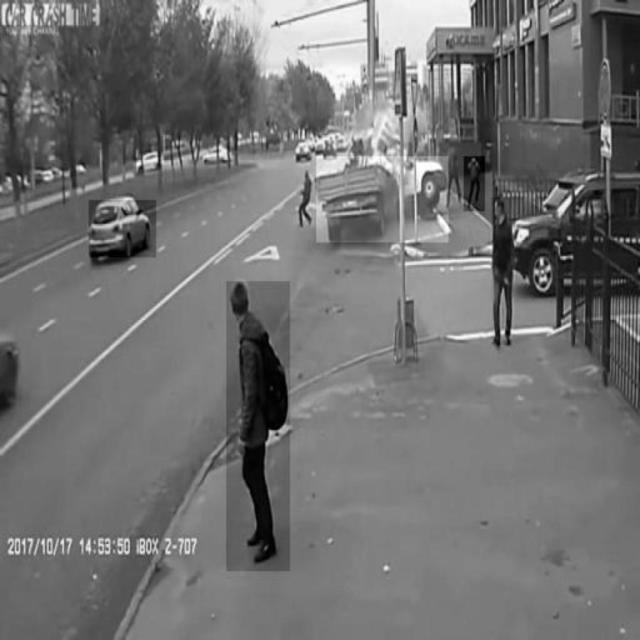accident: (316, 156, 448, 242)
person: (226, 281, 290, 571), (492, 198, 512, 345), (464, 157, 484, 212)
vehicle: (515, 170, 639, 302), (89, 200, 156, 258)
